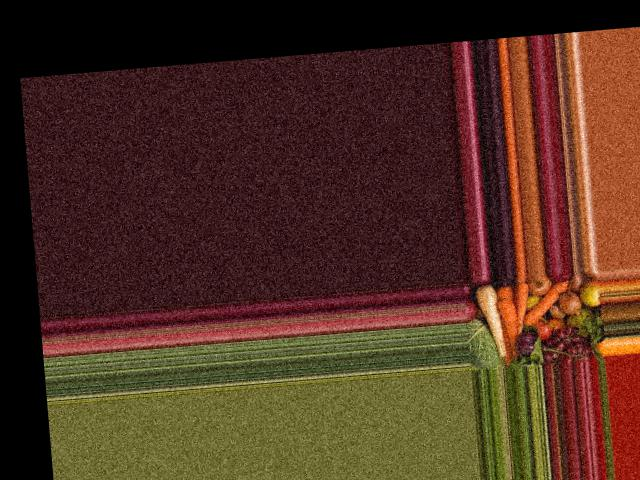carrot: (502, 295, 518, 359)
